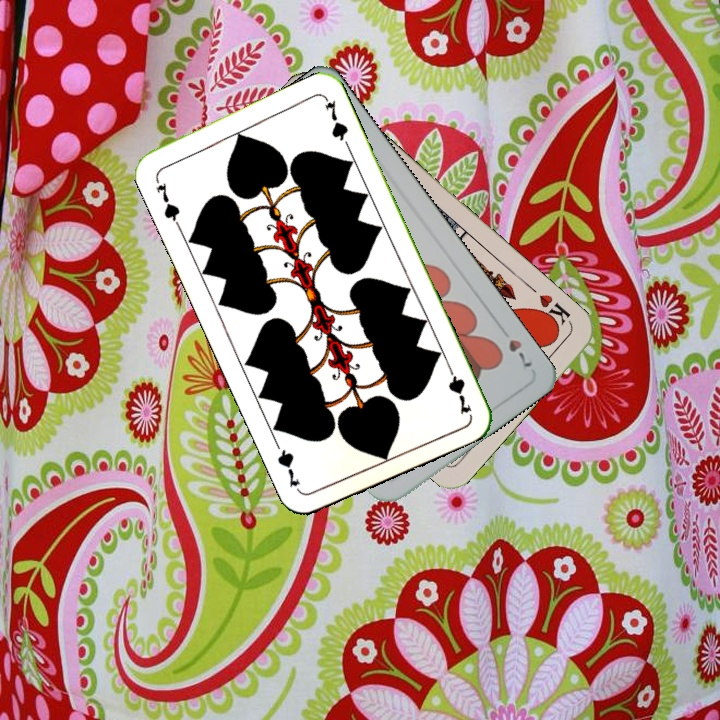G7: (442, 359, 475, 417), (152, 179, 183, 229)
H7: (495, 321, 535, 370)
HK: (531, 290, 574, 332)
